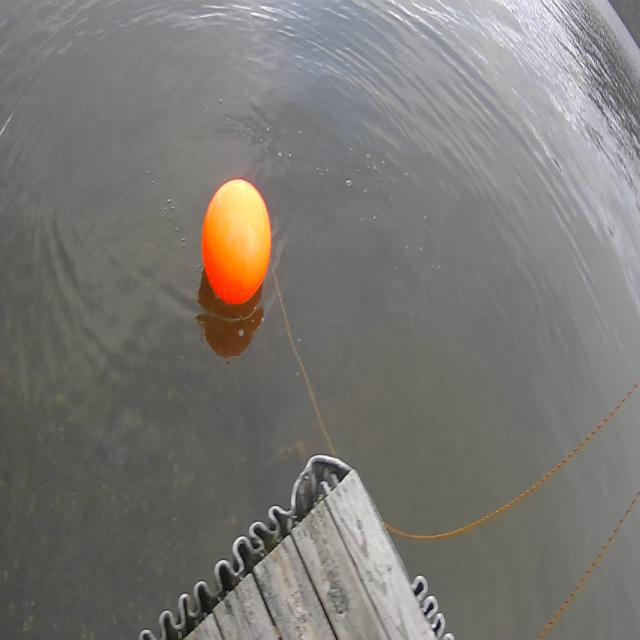Buoy: (203, 168, 278, 328)
